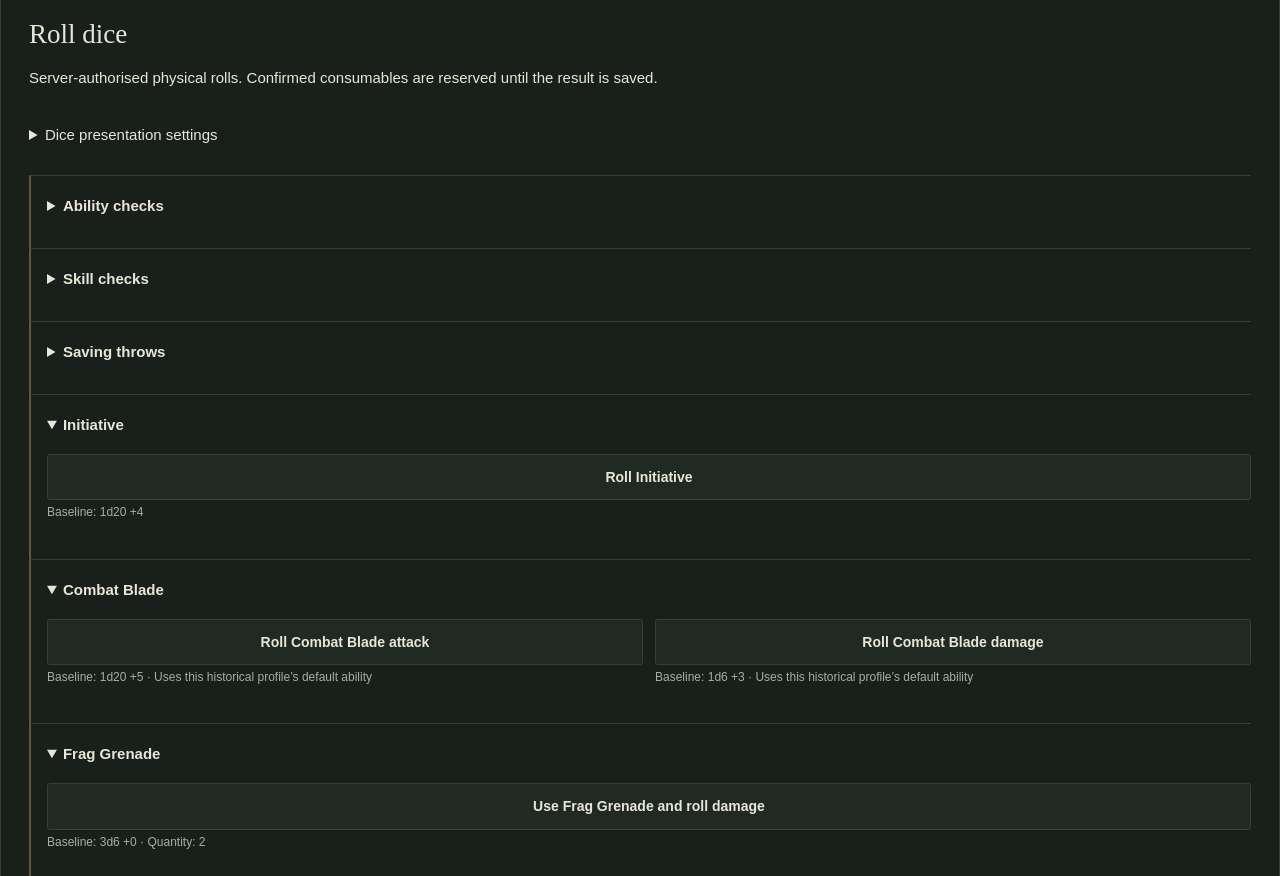
Test: requires grenade confirmation and refreshes quantity after committed result
Click the button "Use Frag Grenade and roll damage" at (649, 806), box [47,783,1251,830]
(page scrolled)
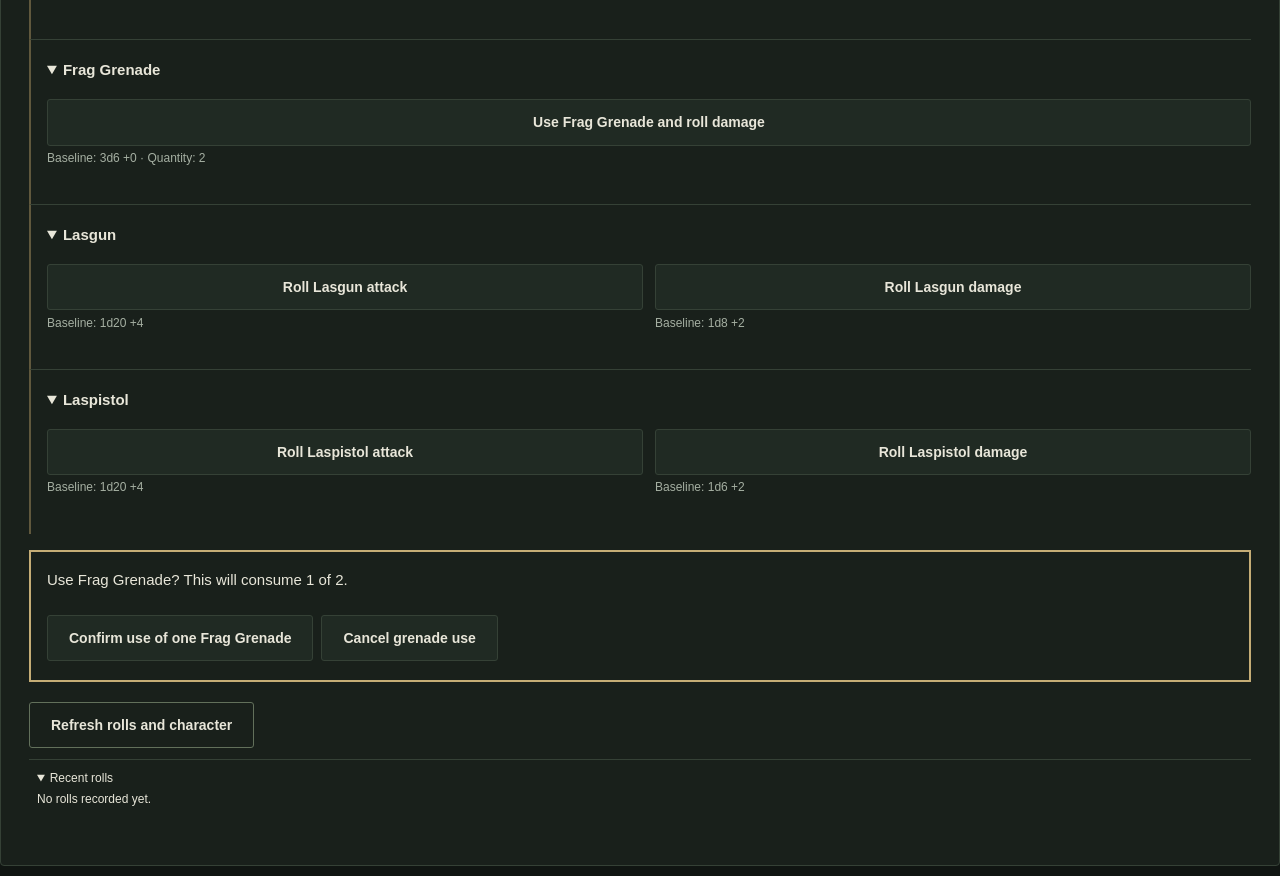
Result: the text "Use Frag Grenade? This will consume 1 of 2." is shown at [47,571,348,588]
Click the button "Confirm use of one Frag Grenade" at (180, 638), box [47,615,314,661]
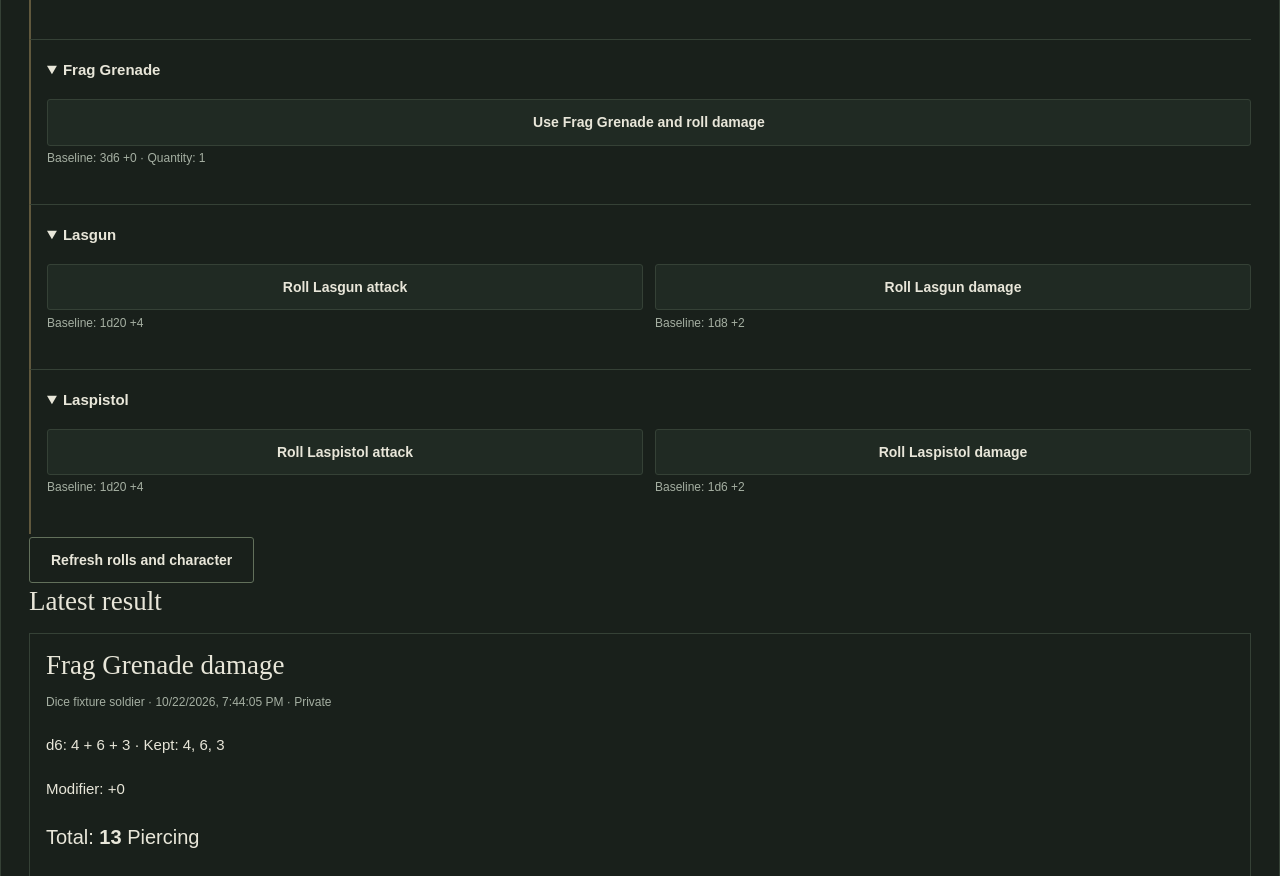
Result: the text "Baseline: 3d6 +0 · Quantity: 1" is shown at [47,151,206,165]
